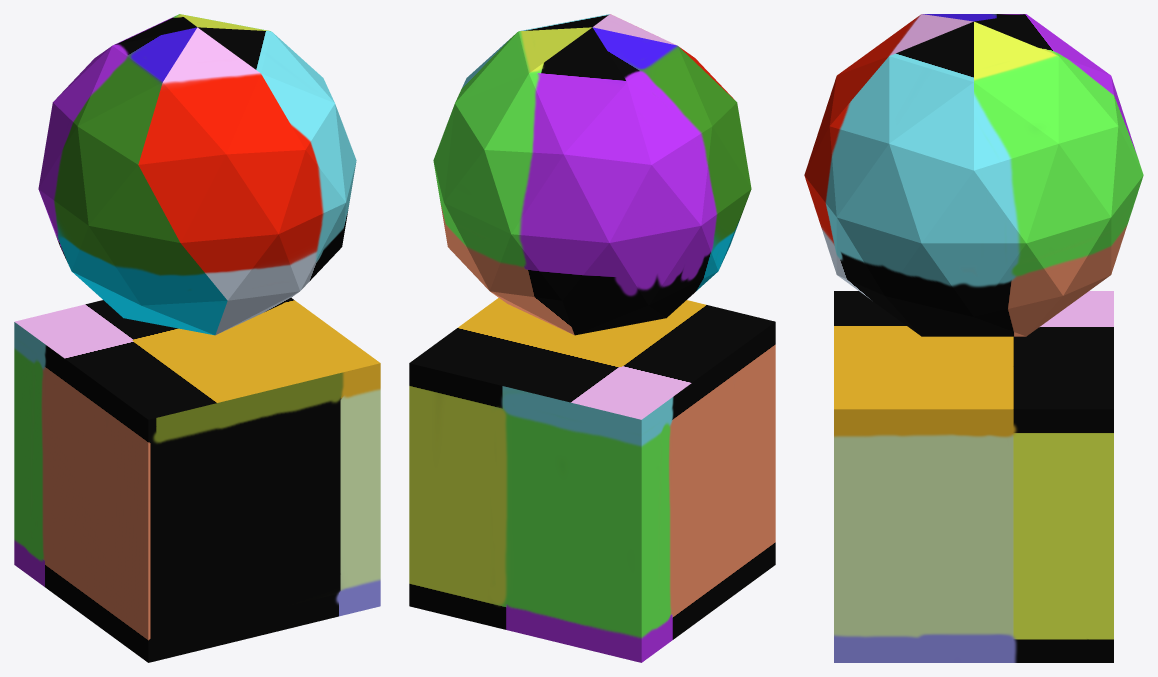
The picture shows the model from 3 angles, left to right: view 1: azimuth 30°, elevation 25°; view 2: azimuth 150°, elevation 25°; view 3: azimuth 270°, elevation 25°; orthographic projection. The views are drawn at different scales.
Parts seen in each view (by area): view 1: Cube, ICO; view 2: Cube, ICO; view 3: Cube, ICO.
Part boxes in pixels (x1=…): Cube: x1=14, y1=298, x2=380, y2=662; ICO: x1=38, y1=14, x2=356, y2=335; Cube: x1=409, y1=298, x2=775, y2=662; ICO: x1=433, y1=14, x2=751, y2=335; Cube: x1=834, y1=291, x2=1113, y2=662; ICO: x1=804, y1=14, x2=1143, y2=336.
Size of the model in its own units: 231 by 459 by 243.
2 materials, 2 textured.
